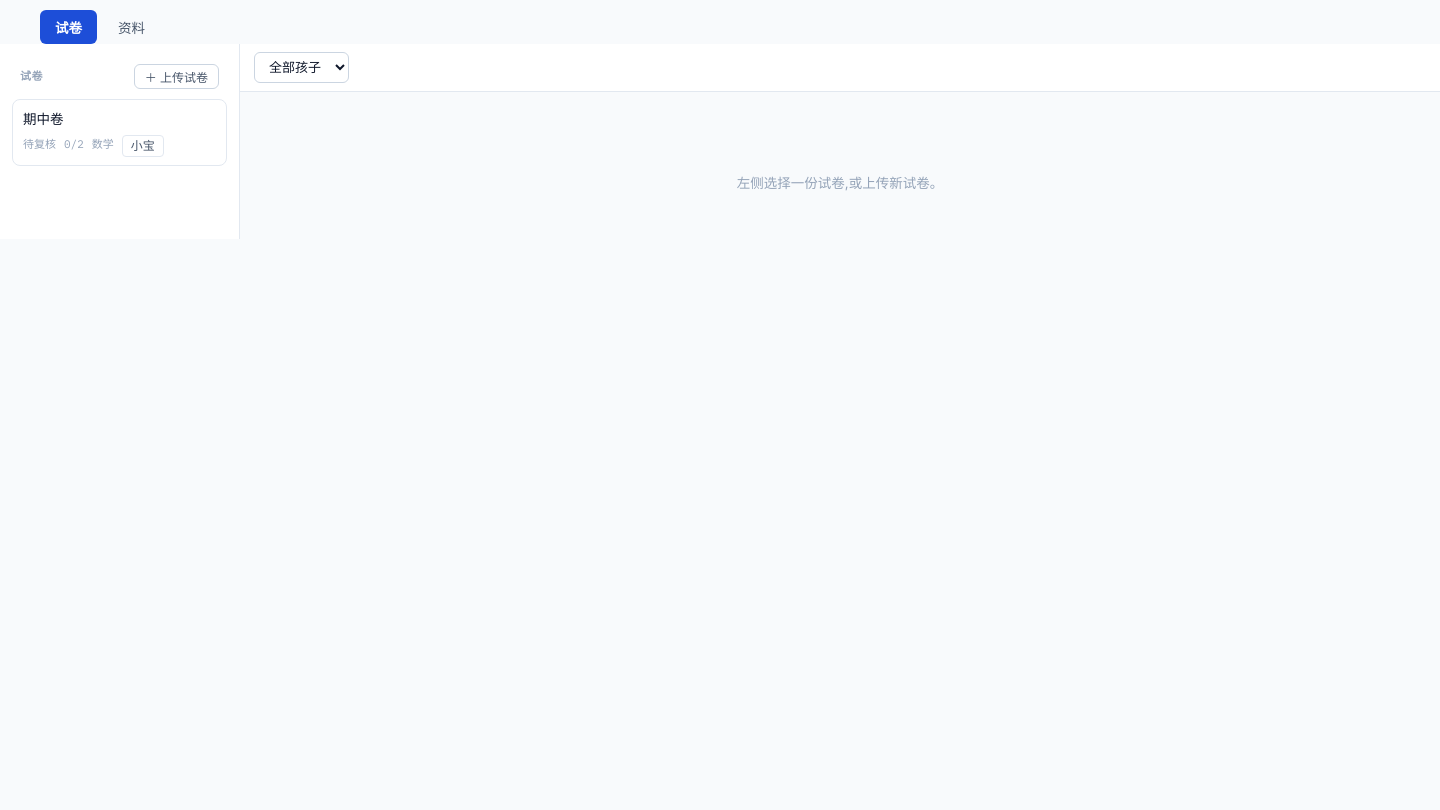
Test case: ReviewView › 匹配:待匹配题点开候选浮层点选关联
What coordinates should you click on to do the following:
click the text "期中卷"
I would click on:
 (43, 119)
Its box is [23,111,64,127].
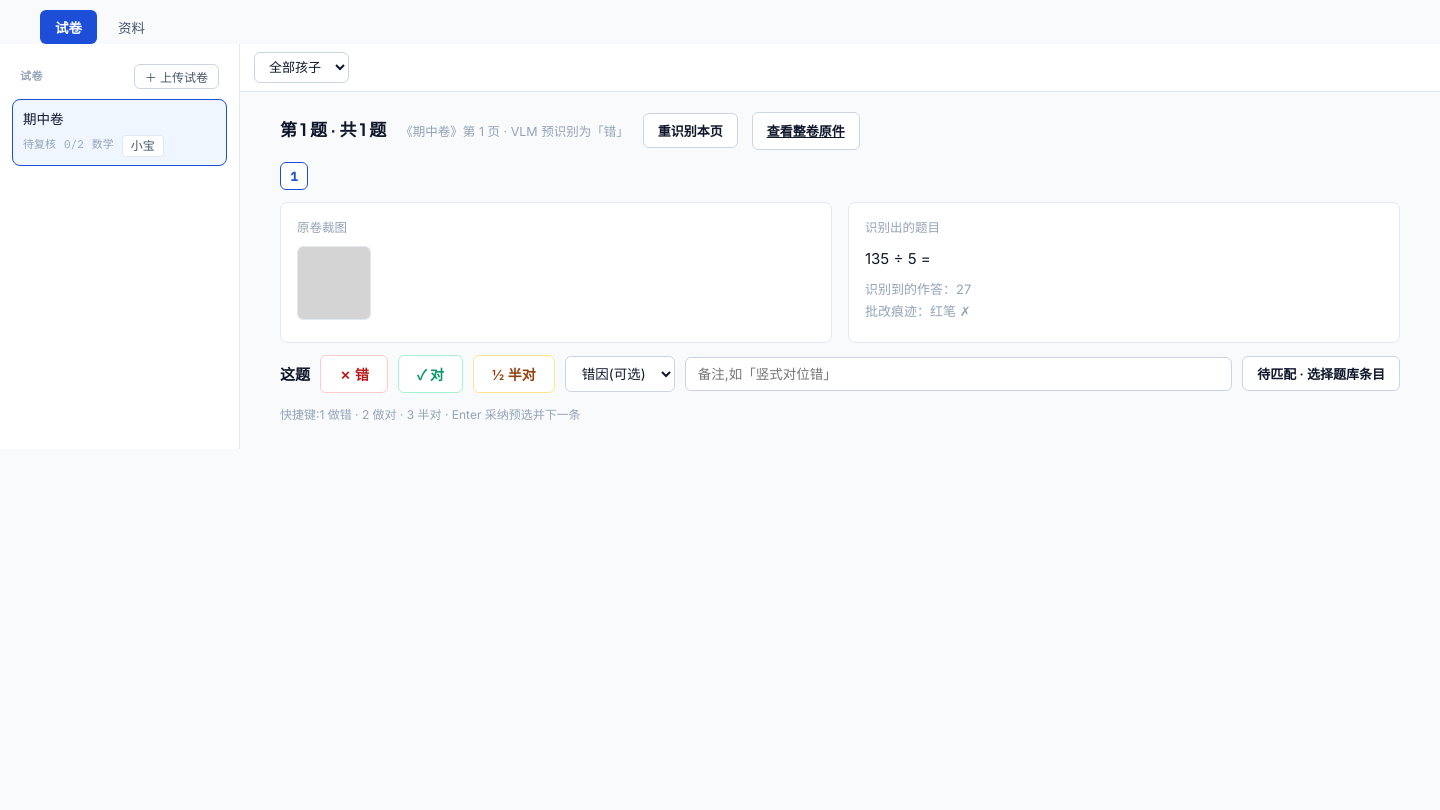
expect the text "135 ÷ 5 =" is shown: met, box [865,249,931,268]
What coordinates should you click on to do the following:
click the button "待匹配 · 选择题库条目"
I would click on:
 (1321, 374)
Its box is [1242,356,1400,391].
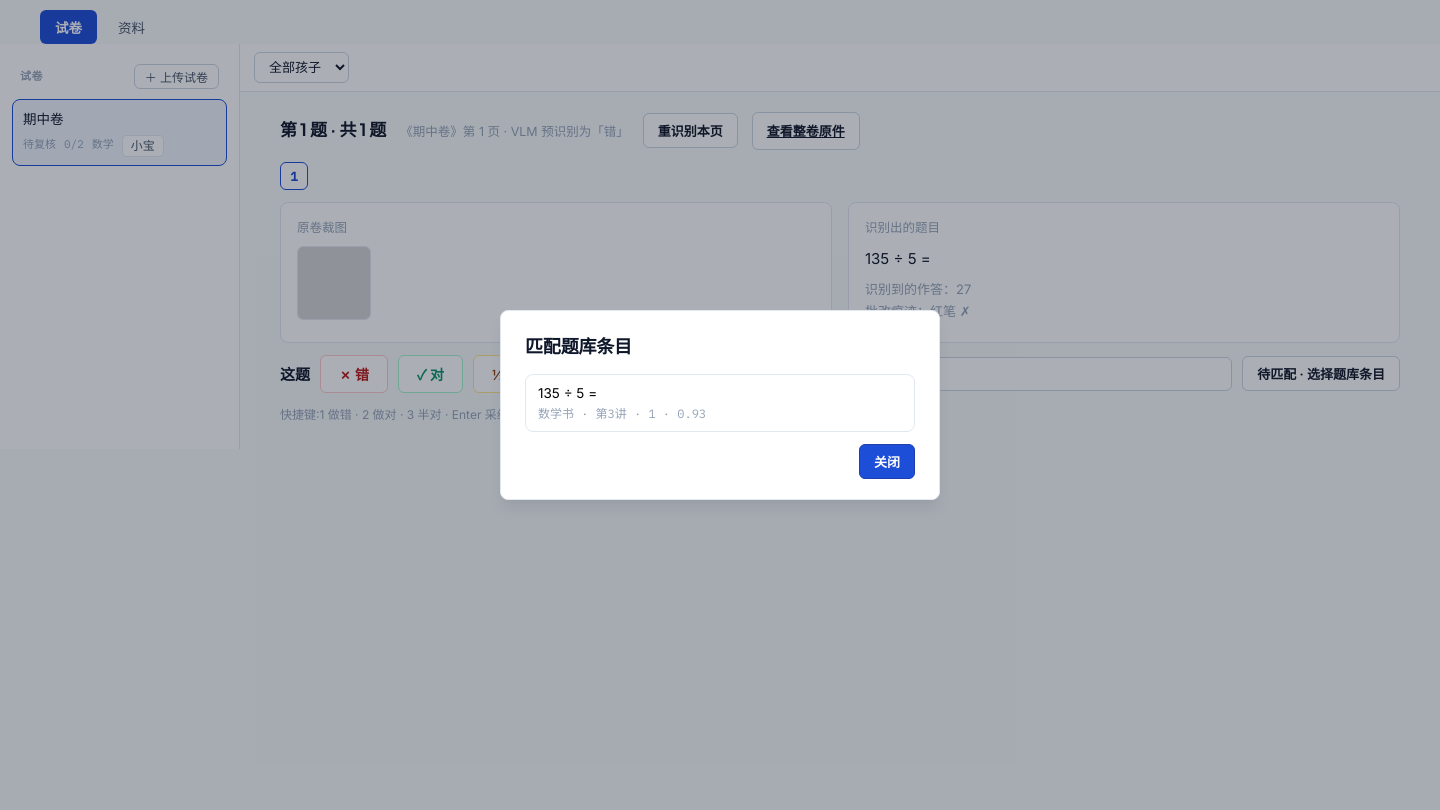
What coordinates should you click on to do the following:
click the text "数学书 · 第3讲 · 1 · 0.93"
I would click on:
 (622, 412)
Its box is [538,404,706,421].
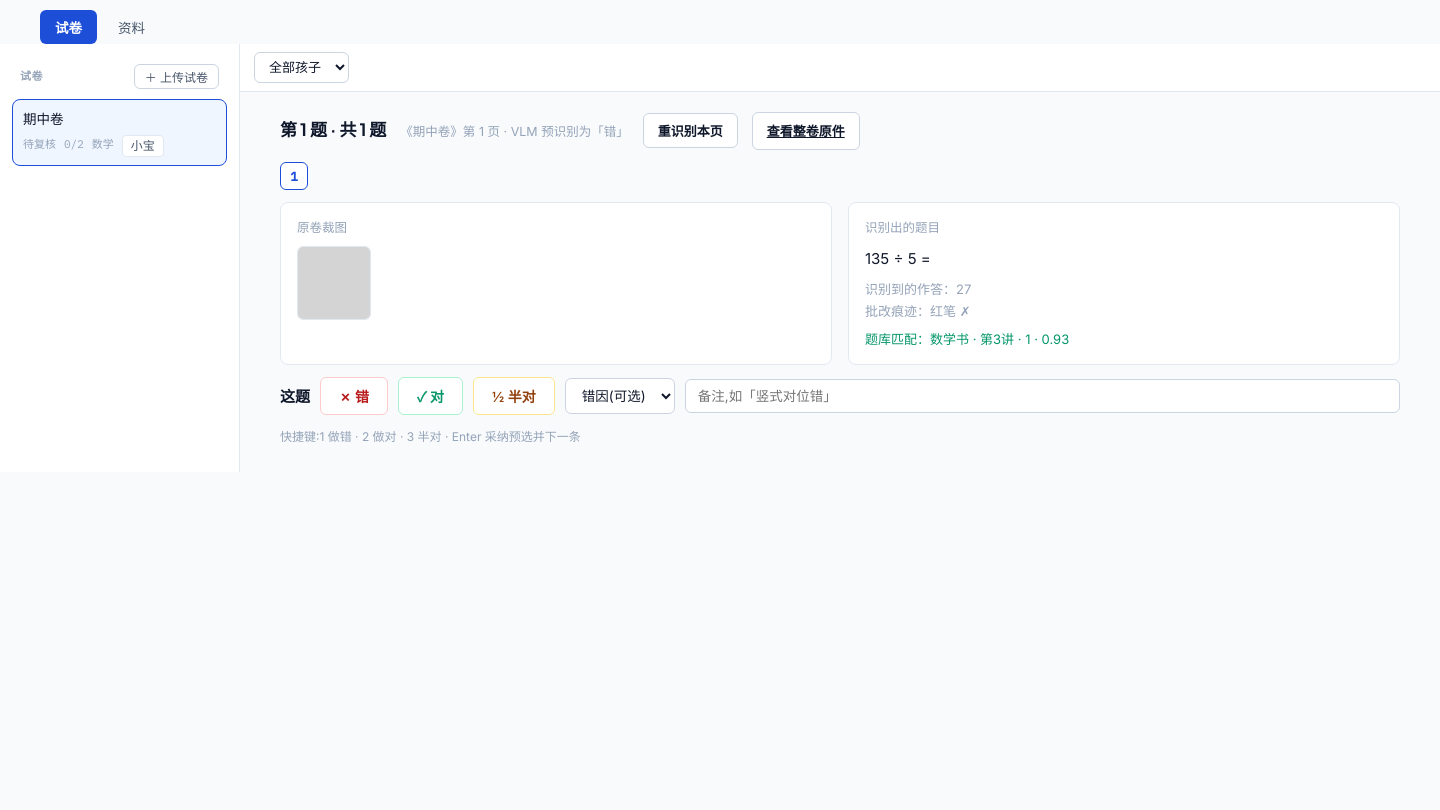
expect the text "题库匹配：数学书 · 第3讲 · 1 · 0.93" is shown: met, box [865,331,1069,347]
